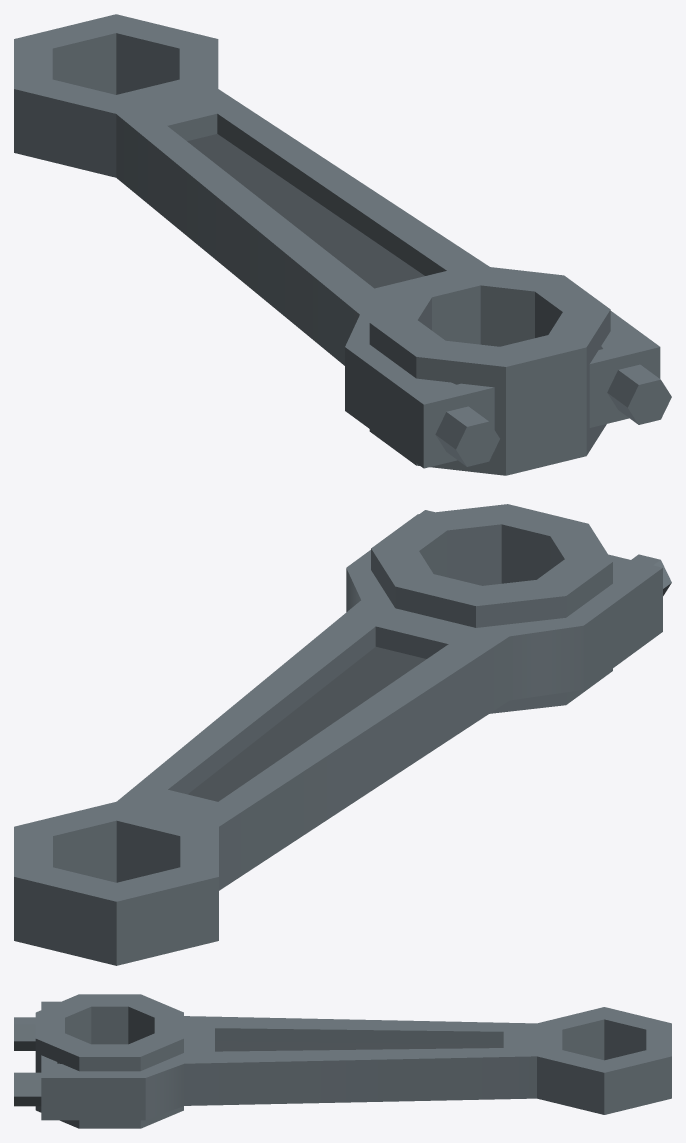
Rendered from SM_Prop_Piston_01.fbx.
3 views of the same model, one above another, from view 1: azimuth 30°, elevation 25°; view 2: azimuth 150°, elevation 25°; view 3: azimuth 270°, elevation 25° (orthographic). The views are drawn at different scales.
Parts seen in each view (by area): view 1: SM_Prop_Piston_01; view 2: SM_Prop_Piston_01; view 3: SM_Prop_Piston_01.
Part boxes in pixels (box(x1,y1,x2,y2)): SM_Prop_Piston_01: box(14, 14, 671, 475); SM_Prop_Piston_01: box(14, 504, 671, 965); SM_Prop_Piston_01: box(14, 994, 671, 1128).
Bounding box in the file's own units: 11.98 × 5.26 × 43.64.
